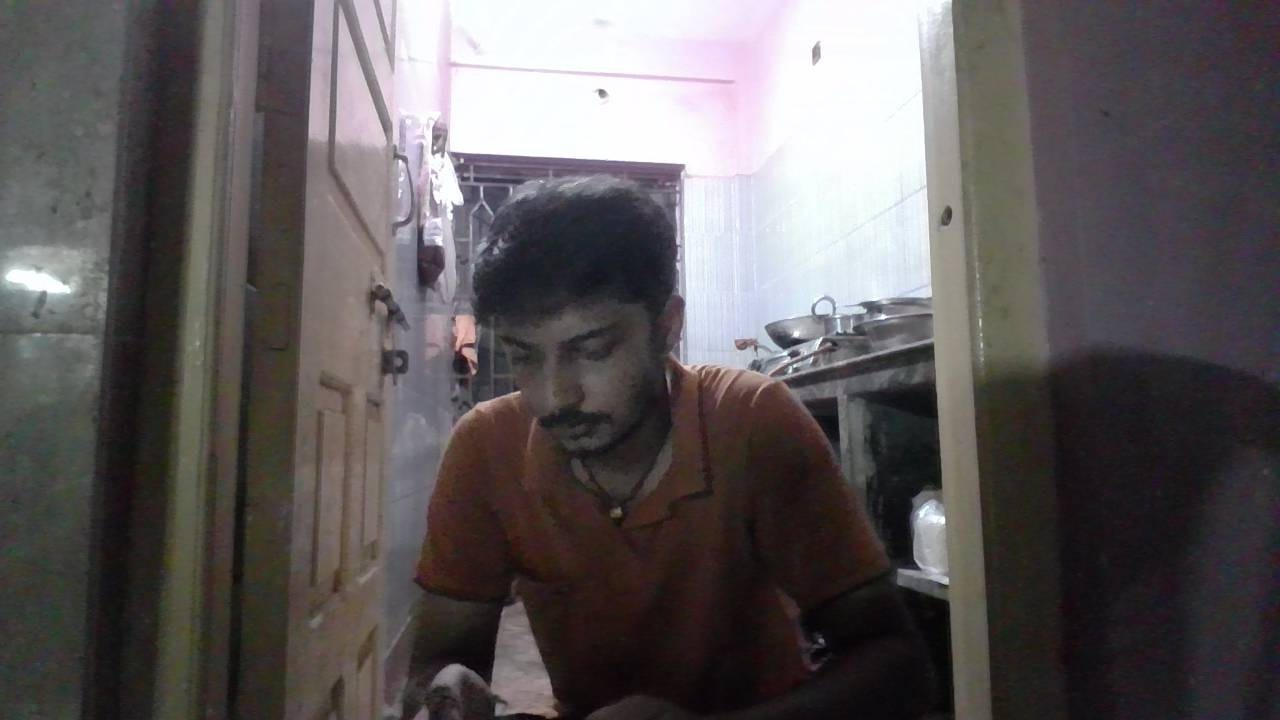red_box: (418, 405, 572, 586), (633, 422, 709, 524), (717, 387, 825, 448)
